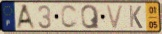3: (38, 4, 52, 30)
A: (15, 3, 38, 30)
C: (60, 4, 79, 30)
K: (128, 5, 144, 30)
Q: (80, 4, 101, 30)
V: (104, 3, 125, 30)
